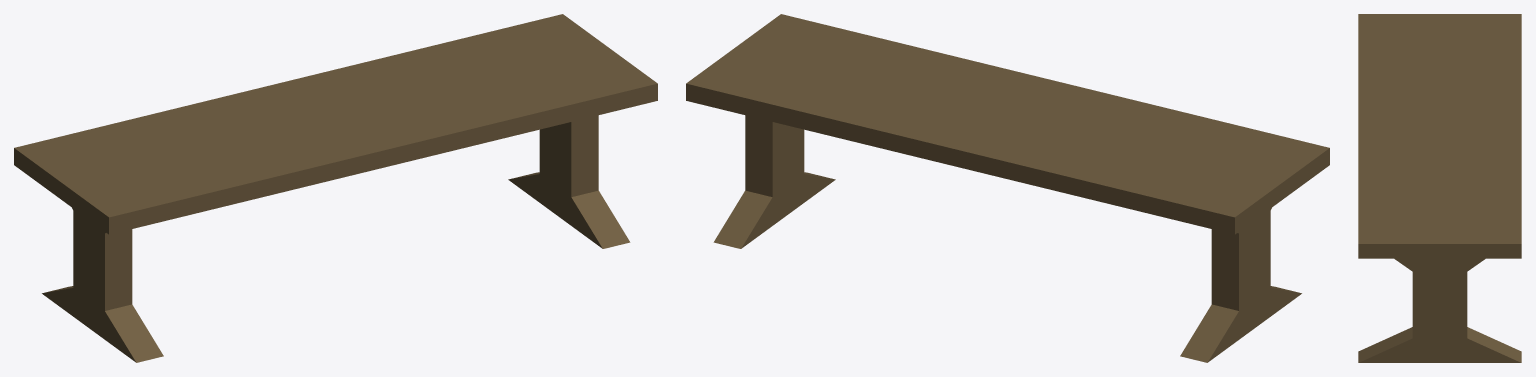
File: roman_bench_wood.fbx
3 views of the same model, side by side, from view 1: azimuth 30°, elevation 25°; view 2: azimuth 150°, elevation 25°; view 3: azimuth 270°, elevation 25° (orthographic). The views are drawn at different scales.
Visible parts, largest first — view 1: Cube.067; view 2: Cube.067; view 3: Cube.067.
Part boxes in pixels (x1,y1,x2,y2): Cube.067: (14, 14, 657, 362); Cube.067: (686, 14, 1329, 362); Cube.067: (1358, 14, 1521, 362).
Bounding box in the file's own units: 2 × 0.53 × 0.6.
